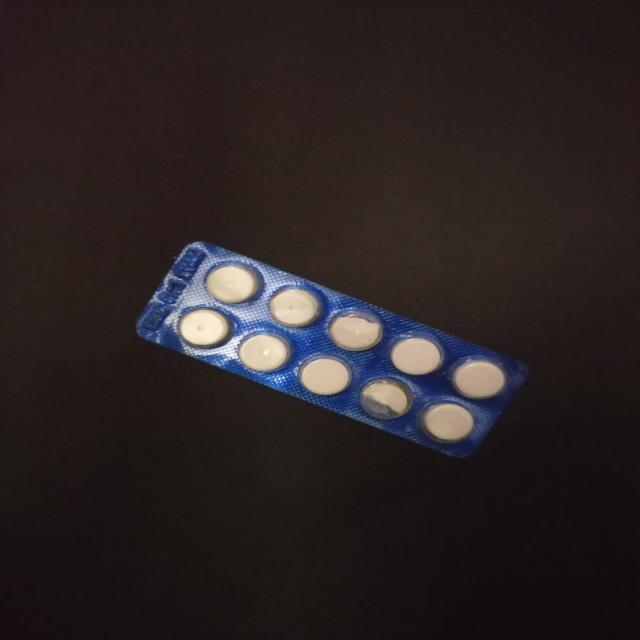defect: (356, 374, 416, 422), (327, 306, 387, 353)
